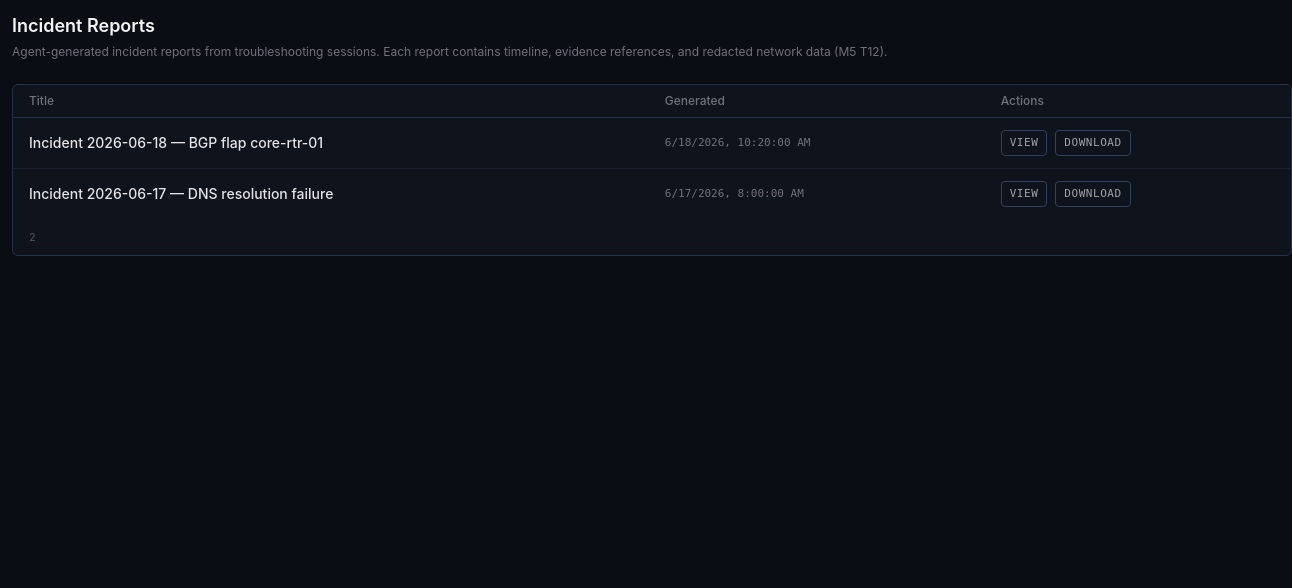
Test case: IncidentReportsPage — inline view › opens the report panel when View is clicked
Click the button "View" in the row of "6/18/2026, 10:20:00 AM". click: (1024, 143)
box: [1001, 130, 1047, 156]
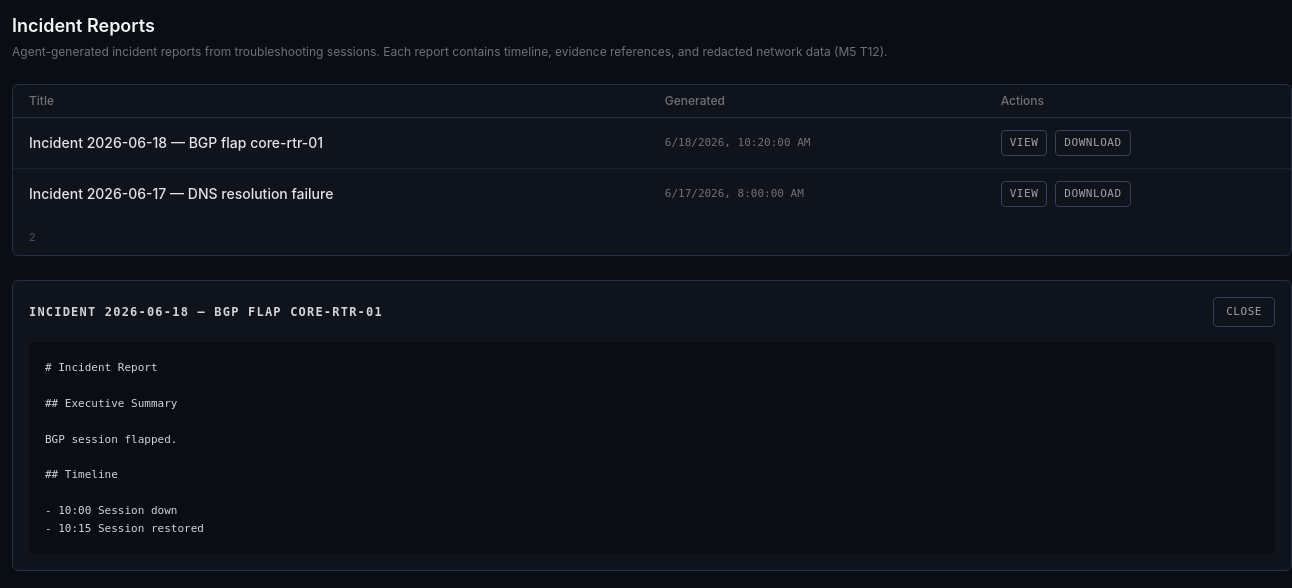
Result: the element with test id "incident-report-panel" is shown at [12, 280, 1291, 571]
